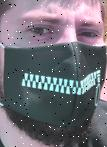with_mask: (2, 1, 107, 147)
